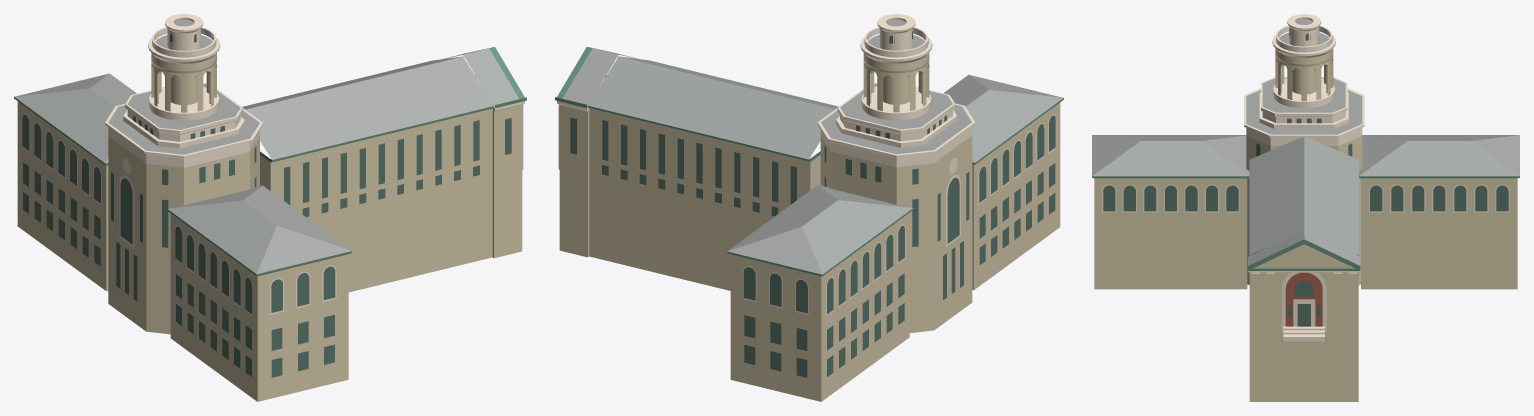
Rendered from pit-hamerschlag-hall.glb.
3 views of the same model, side by side, from view 1: azimuth 30°, elevation 25°; view 2: azimuth 150°, elevation 25°; view 3: azimuth 270°, elevation 25° (orthographic). The views are drawn at different scales.
Parts seen in each view (by area): view 1: Hamerschlag Hall; view 2: Hamerschlag Hall; view 3: Hamerschlag Hall.
Boxes of the visible parts, x1,y1,x2,y2 form: Hamerschlag Hall: (14,14,526,401); Hamerschlag Hall: (555,14,1063,401); Hamerschlag Hall: (1092,14,1519,401).
Bounding box in the file's own units: 67.42 × 47.3 × 73.8.
